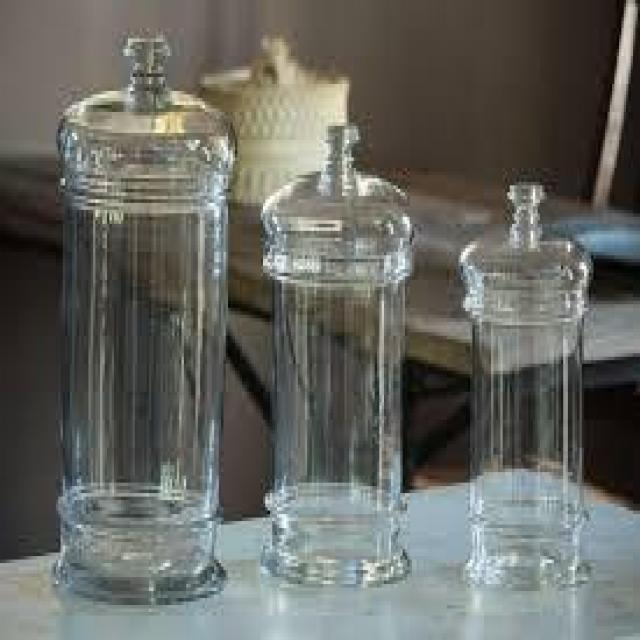non-organic waste: (51, 27, 240, 610)
